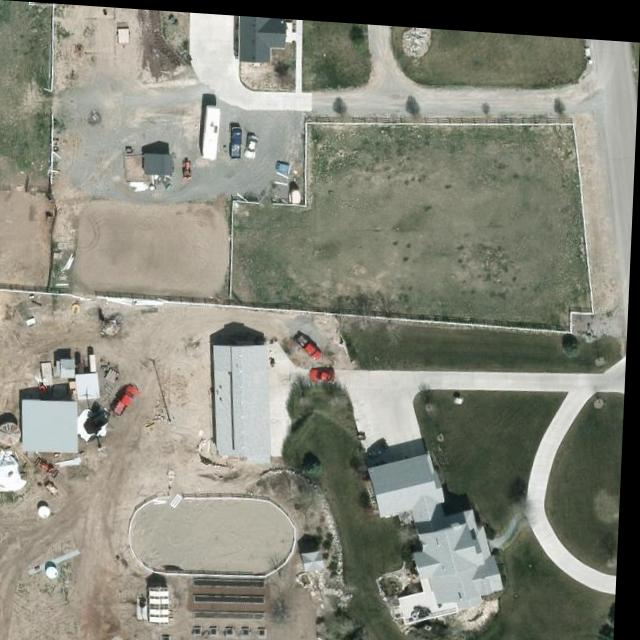vehicle: (110, 381, 146, 415), (295, 328, 329, 357), (229, 122, 245, 157), (372, 435, 393, 456), (311, 363, 340, 378), (245, 130, 260, 158)
